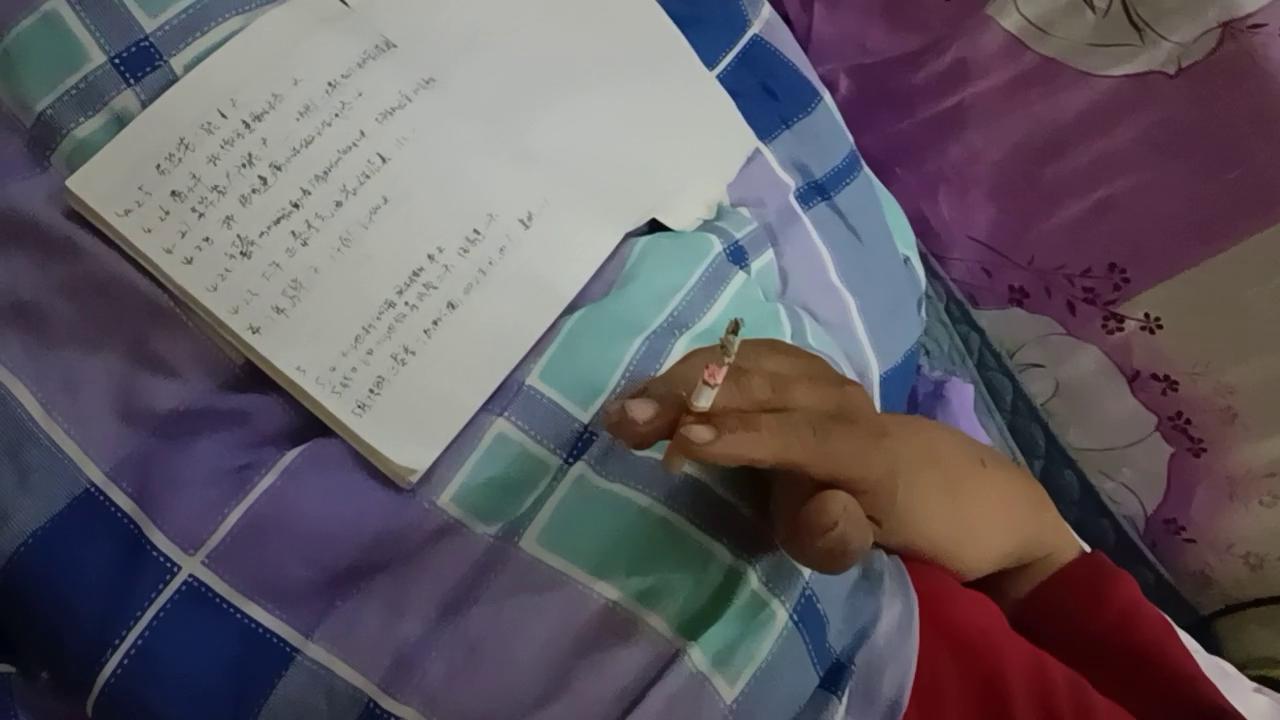smoke: (660, 315, 747, 476)
